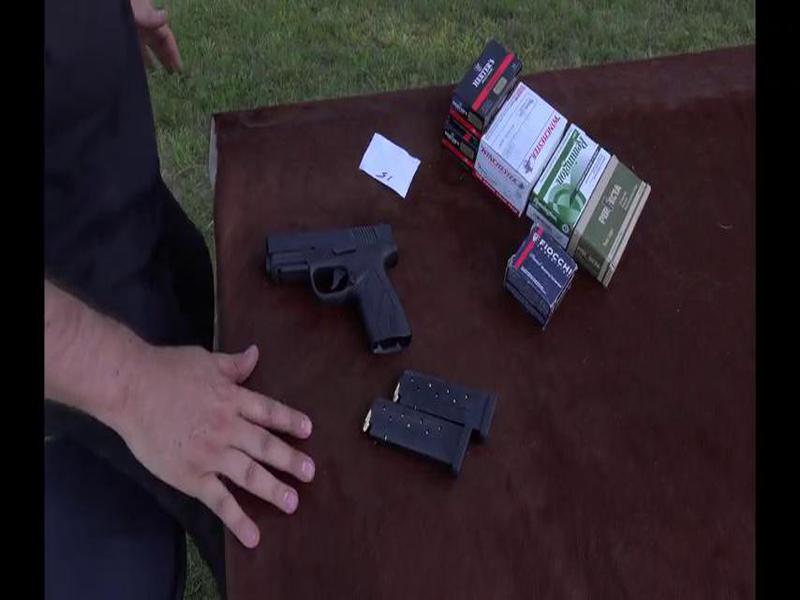Pistola: (263, 215, 429, 370)
